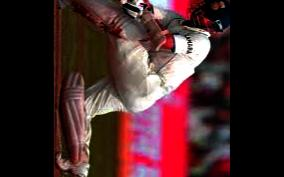batsman: (53, 0, 228, 177)
